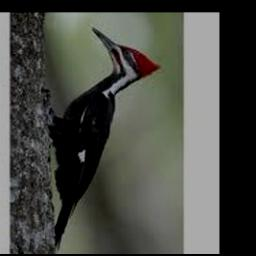Woodpecker: (48, 27, 162, 249)
